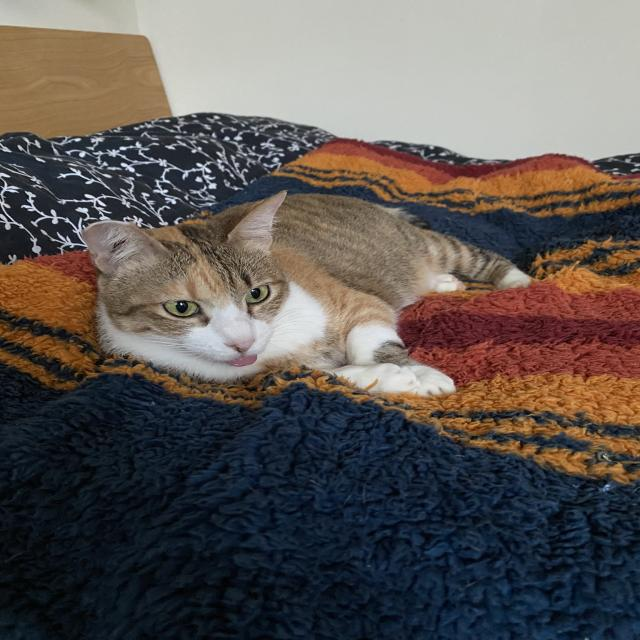cat2: (77, 186, 541, 401)
